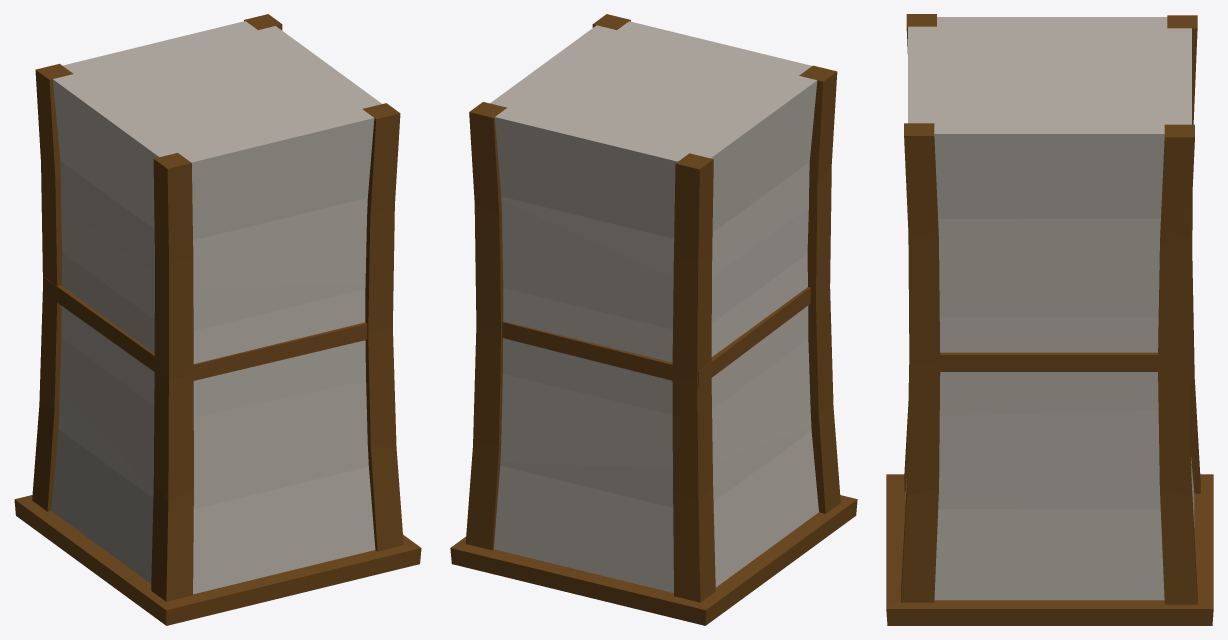
File: SmallHouse_06.fbx
3 renders of one model, left to right at view 1: azimuth 30°, elevation 25°; view 2: azimuth 150°, elevation 25°; view 3: azimuth 270°, elevation 25°, orthographic. The views are drawn at different scales.
Parts seen in each view (by area): view 1: SmallHouse_06; view 2: SmallHouse_06; view 3: SmallHouse_06.
Boxes of the visible parts, <box> form: SmallHouse_06: <box>14,14,421,625</box>; SmallHouse_06: <box>450,14,857,625</box>; SmallHouse_06: <box>886,14,1213,625</box>.
Bounding box in the file's own units: 304 × 510 × 313.
